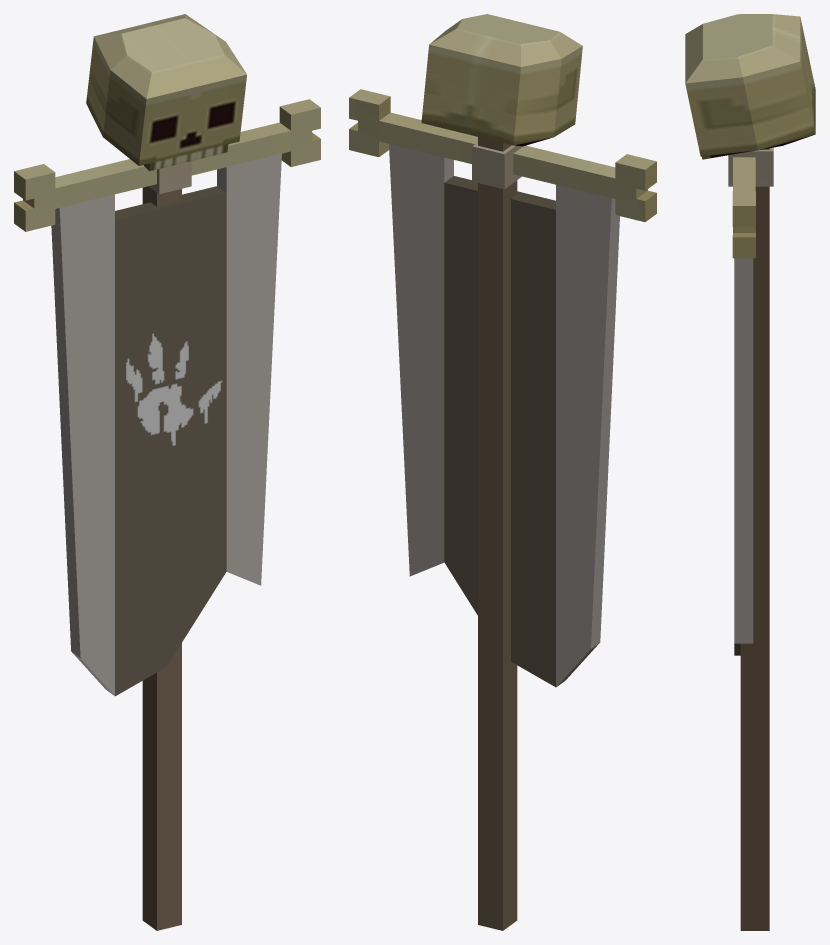
Rendered from Flag0.gltf.
3 renders of one model, left to right at view 1: azimuth 30°, elevation 25°; view 2: azimuth 150°, elevation 25°; view 3: azimuth 270°, elevation 25°, orthographic.
Parts seen in each view (by area): view 1: SF_Prop_Flag_010; view 2: SF_Prop_Flag_010; view 3: SF_Prop_Flag_010.
Boxes of the visible parts, <box> form: SF_Prop_Flag_010: <box>14,14,320,930</box>; SF_Prop_Flag_010: <box>349,14,656,930</box>; SF_Prop_Flag_010: <box>685,14,815,930</box>.
Bounding box in the file's own units: 0.0157 × 0.0452 × 0.00596.
1 material, 1 textured.
